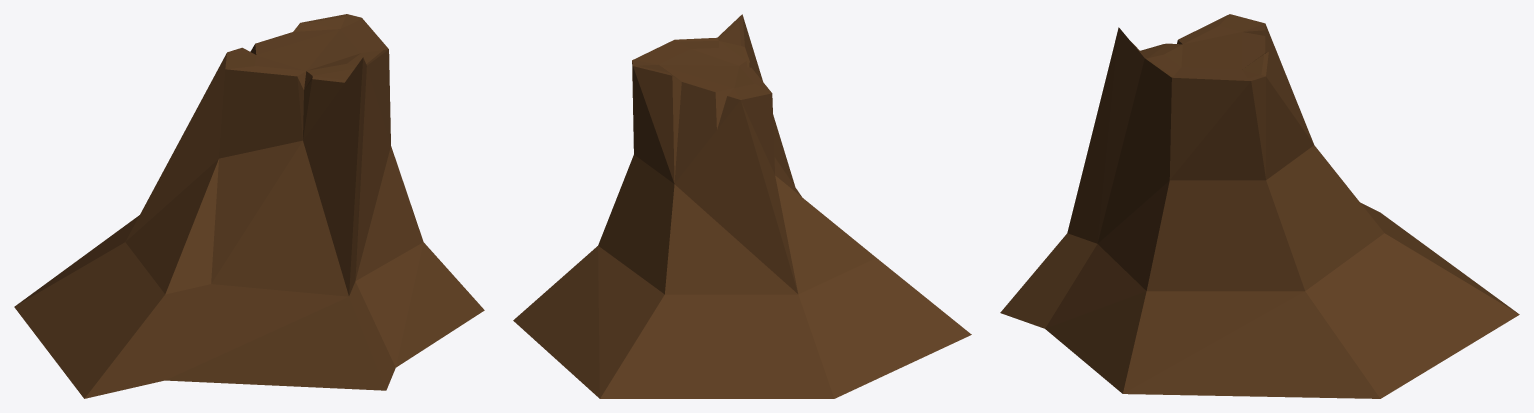
The model's file is tree-spruce-stump-a.gltf.
3 views of the same model, side by side, from view 1: azimuth 30°, elevation 25°; view 2: azimuth 150°, elevation 25°; view 3: azimuth 270°, elevation 25° (orthographic). The views are drawn at different scales.
Visible parts, largest first — view 1: tree-spruce-stump-a; view 2: tree-spruce-stump-a; view 3: tree-spruce-stump-a.
Boxes of the visible parts, x1=… form: tree-spruce-stump-a: x1=14, y1=14, x2=484, y2=398; tree-spruce-stump-a: x1=513, y1=14, x2=971, y2=398; tree-spruce-stump-a: x1=1000, y1=14, x2=1519, y2=398.
Bounding box in the file's own units: 0.0127 × 0.00865 × 0.0135.
